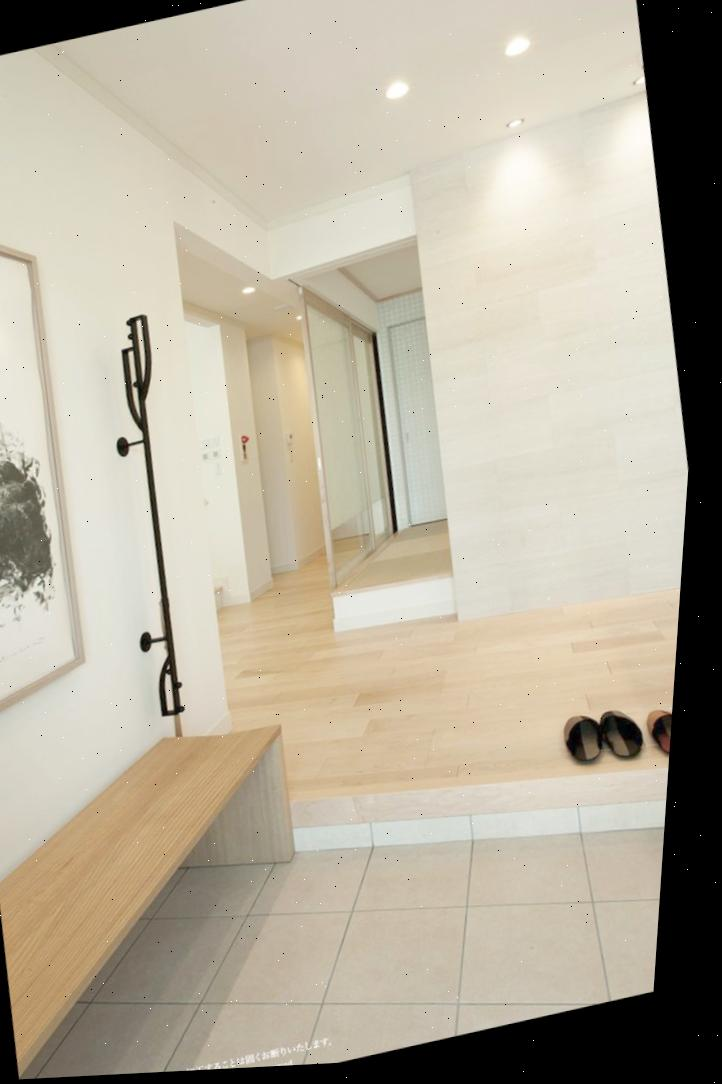floor: (17, 827, 664, 1079)
safe: (216, 548, 680, 801)
